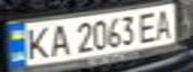0: (90, 17, 112, 51)
2: (72, 19, 93, 54)
3: (118, 12, 139, 47)
6: (106, 16, 127, 48)
A: (45, 21, 72, 57), (151, 6, 178, 39)
E: (136, 9, 163, 44)
K: (18, 24, 54, 61)
